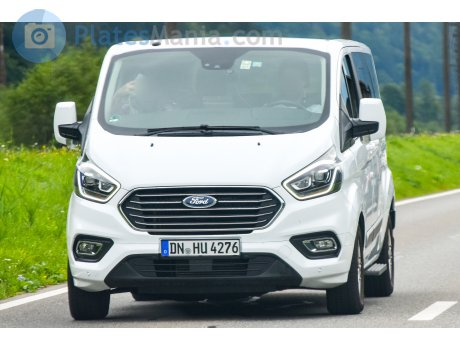License Plates: (167, 239, 238, 251)
